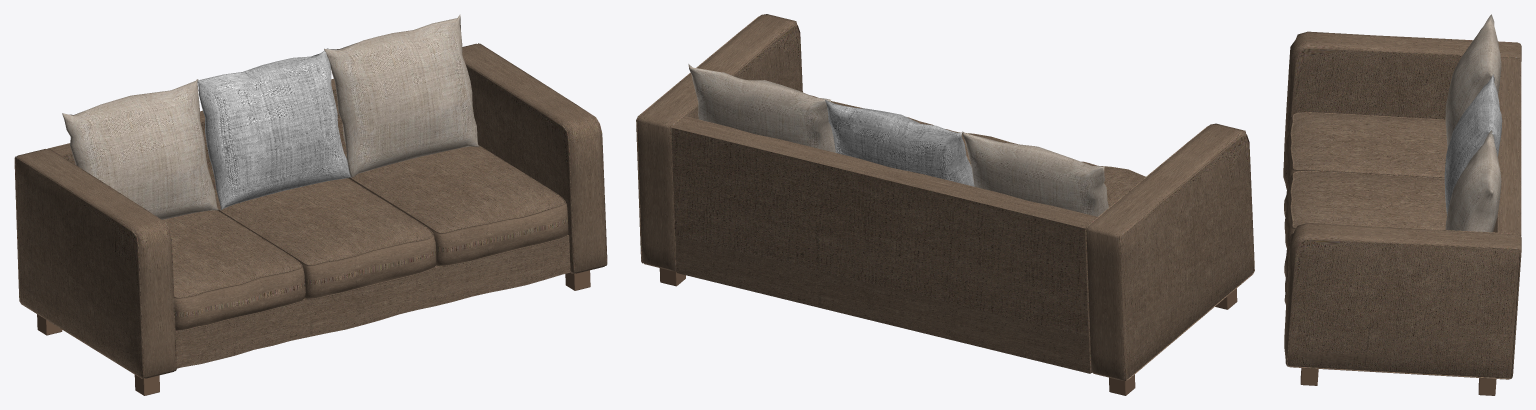
The model's file is sofafbx 2.fbx.
The picture shows the model from 3 angles, left to right: view 1: azimuth 30°, elevation 25°; view 2: azimuth 150°, elevation 25°; view 3: azimuth 270°, elevation 25°; orthographic projection. The views are drawn at different scales.
Parts seen in each view (by area): view 1: Side_right, Back_Cushion_left, Back_Cushion_middle, Side_left, Seat_Cushion_left, Seat_Cushion_middle, Base, Back_Cushion_right, Seat_Cushion_right, Back; view 2: Back, Side_right, Base, Side_left, Back_Cushion_left, Back_Cushion_right, Back_Cushion_middle, Seat_Cushion_right; view 3: Side_left, Side_right, Seat_Cushion_right, Seat_Cushion_middle, Back, Back_Cushion_left, Back_Cushion_middle, Back_Cushion_right, Leg_back_left, Leg_front_left, Seat_Cushion_left.
Boxes of the visible parts, box(x1,y1,x2,y2) form: Side_right: box(14, 148, 176, 378); Back_Cushion_left: box(324, 14, 478, 177); Back_Cushion_middle: box(197, 48, 350, 210); Side_left: box(462, 43, 607, 273); Seat_Cushion_left: box(348, 145, 568, 266); Seat_Cushion_middle: box(215, 178, 436, 299); Base: box(175, 235, 570, 368); Back_Cushion_right: box(62, 79, 218, 219); Seat_Cushion_right: box(162, 210, 305, 330); Back: box(48, 79, 346, 193); Back: box(671, 116, 1097, 336); Side_right: box(1085, 123, 1254, 380); Base: box(675, 235, 1091, 373); Side_left: box(636, 14, 802, 271); Back_Cushion_left: box(688, 64, 835, 152); Back_Cushion_right: box(962, 131, 1108, 216); Back_Cushion_middle: box(825, 100, 974, 186); Seat_Cushion_right: box(1081, 161, 1145, 207); Side_left: box(1284, 223, 1521, 379); Side_right: box(1284, 31, 1521, 147); Seat_Cushion_right: box(1283, 112, 1447, 189); Seat_Cushion_middle: box(1284, 171, 1446, 247); Back: box(1493, 57, 1521, 235); Back_Cushion_left: box(1445, 130, 1501, 232); Back_Cushion_middle: box(1444, 74, 1502, 215); Back_Cushion_right: box(1445, 14, 1501, 148); Leg_back_left: box(1478, 378, 1496, 395); Leg_front_left: box(1300, 368, 1318, 385); Seat_Cushion_left: box(1284, 231, 1294, 304).
Bounding box in the file's own units: 14.07 × 6.09 × 6.73.
7 materials, 6 textured.
